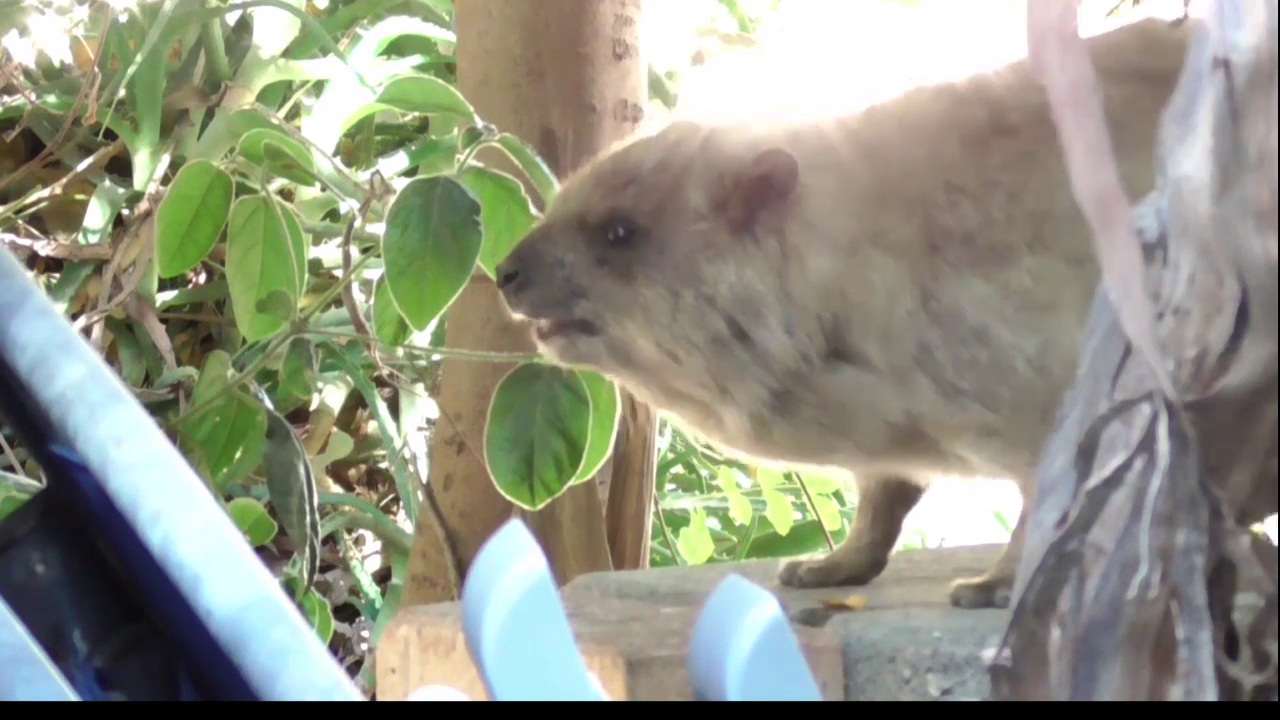Rock Hyrex: (492, 17, 1280, 612)
